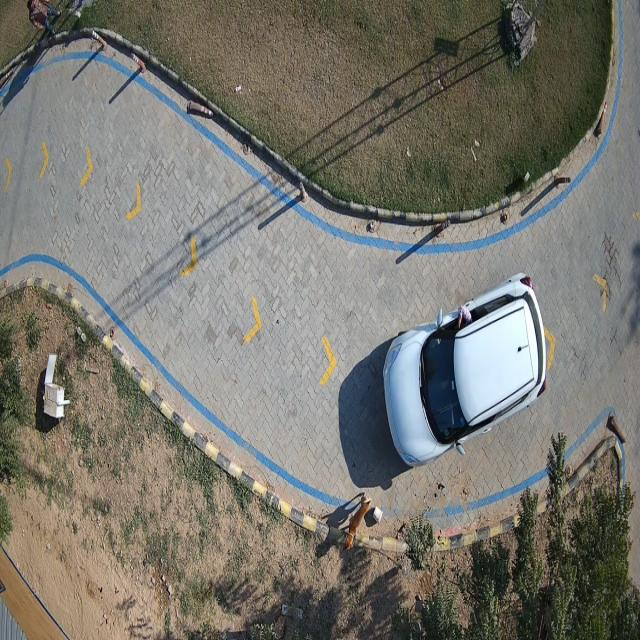car: (384, 273, 546, 467)
